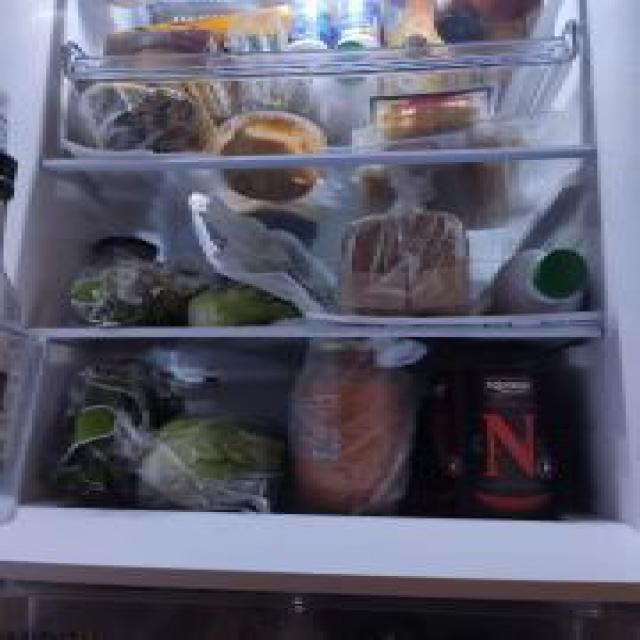bread: (339, 211, 472, 318)
broccoli: (184, 192, 334, 329)
cheese: (364, 80, 496, 127)
humus: (105, 29, 233, 120), (213, 110, 327, 204)
milk: (470, 247, 590, 316)
pineapple: (105, 82, 215, 153)
salad: (130, 415, 286, 511)
yogurt: (288, 0, 331, 51), (336, 1, 382, 48)
